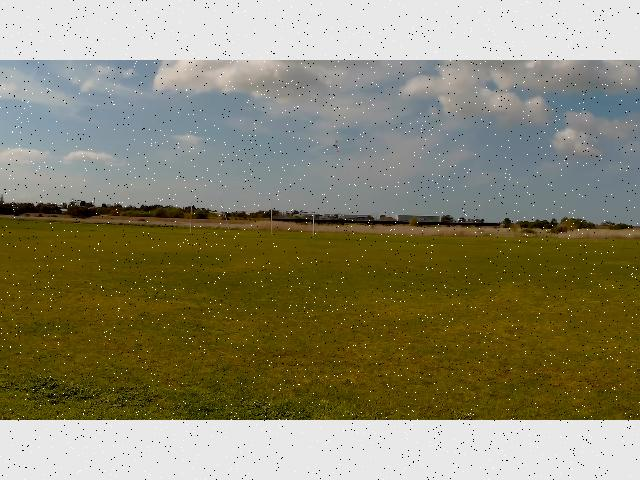Anti-Drone: (332, 141, 340, 153)
